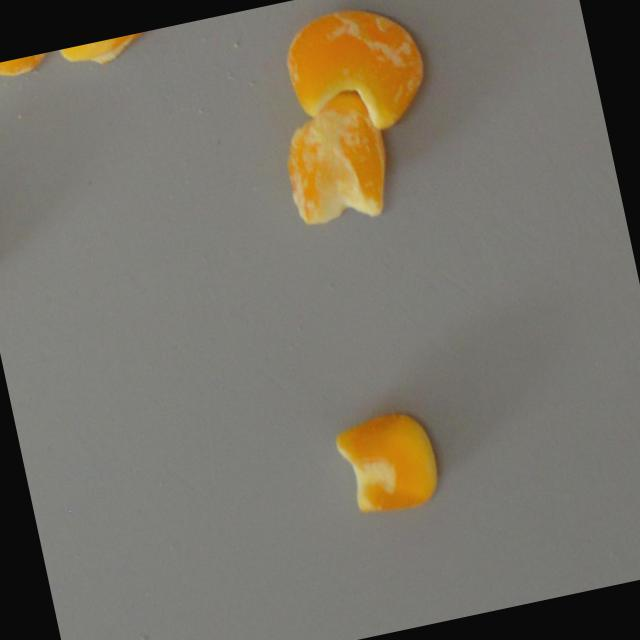no_canjicado: (328, 402, 444, 521)
pelicula: (276, 0, 435, 144), (276, 100, 396, 228), (56, 25, 174, 72), (0, 47, 68, 77)
